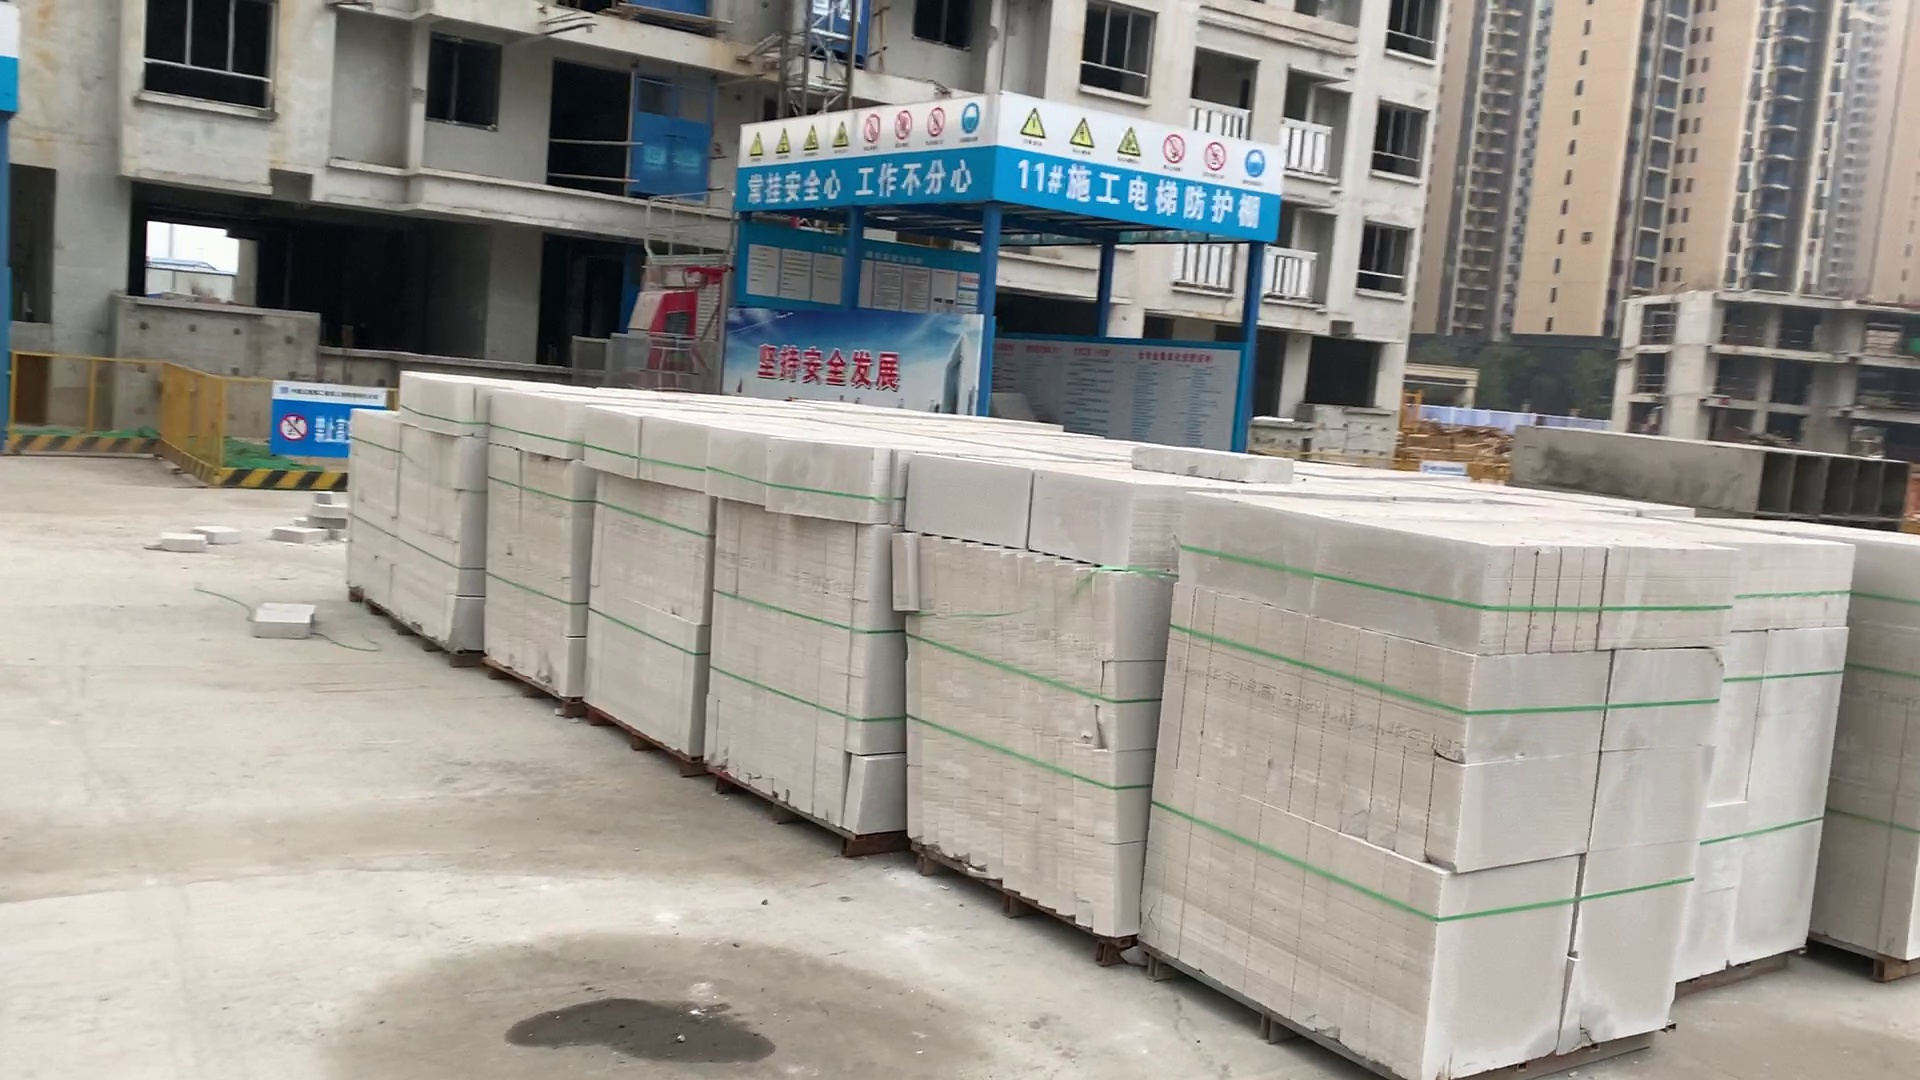brickwork: (1154, 485, 1683, 1069), (891, 440, 1139, 957), (1677, 522, 1854, 1000), (702, 411, 874, 837), (585, 396, 712, 773), (1812, 545, 1920, 961), (342, 377, 488, 654), (487, 377, 589, 688)
